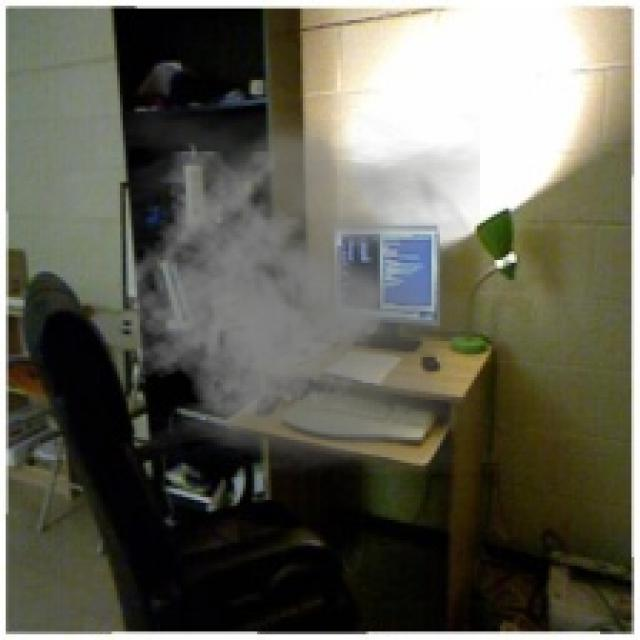smoke: (114, 112, 480, 474)
